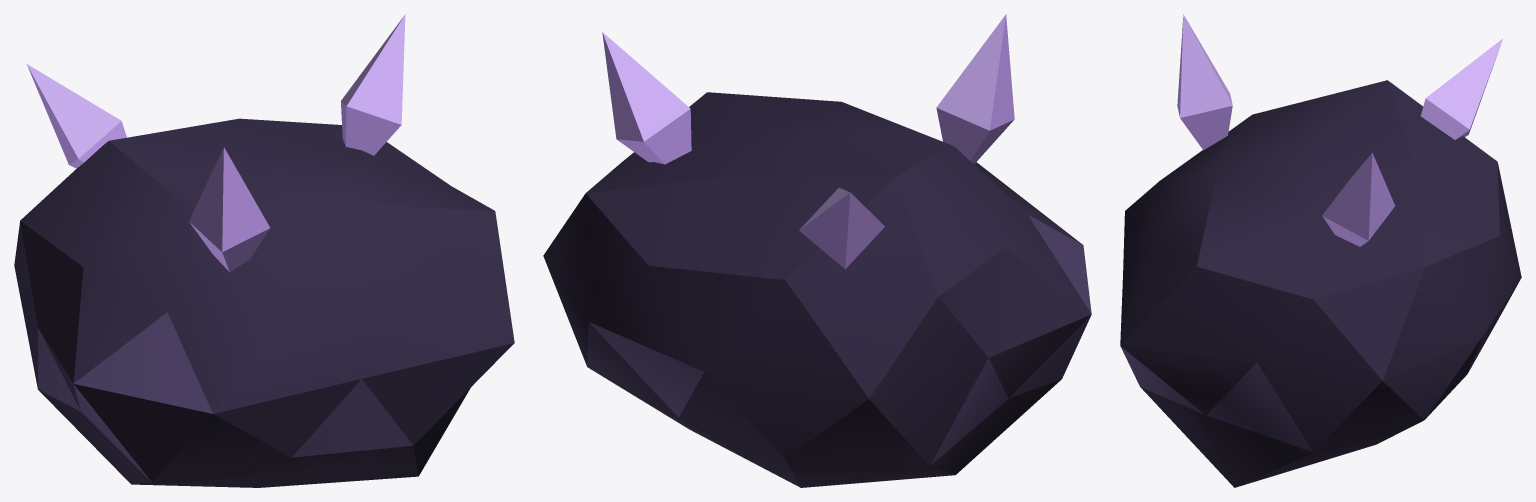
The model's file is void_debris.glb.
The picture shows the model from 3 angles, left to right: view 1: azimuth 30°, elevation 25°; view 2: azimuth 150°, elevation 25°; view 3: azimuth 270°, elevation 25°; orthographic projection. The views are drawn at different scales.
Visible parts, largest first — view 1: void_debris, void_debris_glow; view 2: void_debris, void_debris_glow; view 3: void_debris, void_debris_glow.
Part boxes in pixels (bbox=[...]): void_debris: bbox=[14, 118, 514, 487]; void_debris_glow: bbox=[26, 14, 405, 272]; void_debris: bbox=[543, 92, 1091, 487]; void_debris_glow: bbox=[602, 14, 1014, 269]; void_debris: bbox=[1120, 80, 1521, 487]; void_debris_glow: bbox=[1177, 14, 1502, 246].
Bounding box in the file's own units: 2.26 × 2 × 1.88.
